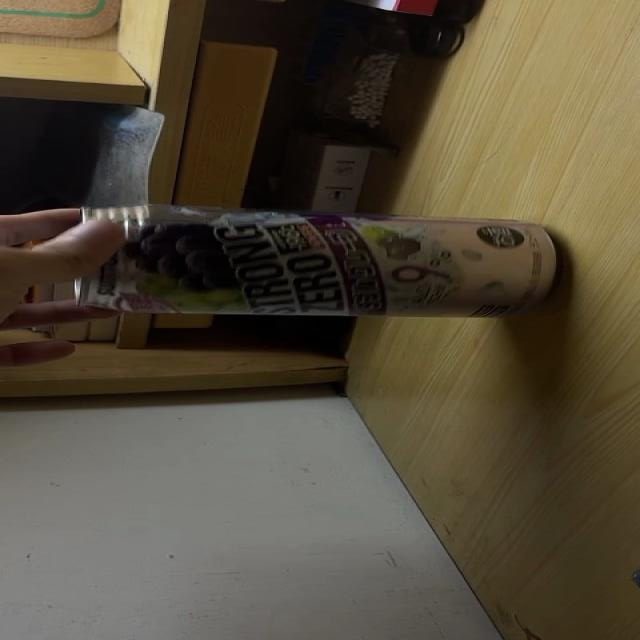Liquor: (70, 206, 559, 317)
